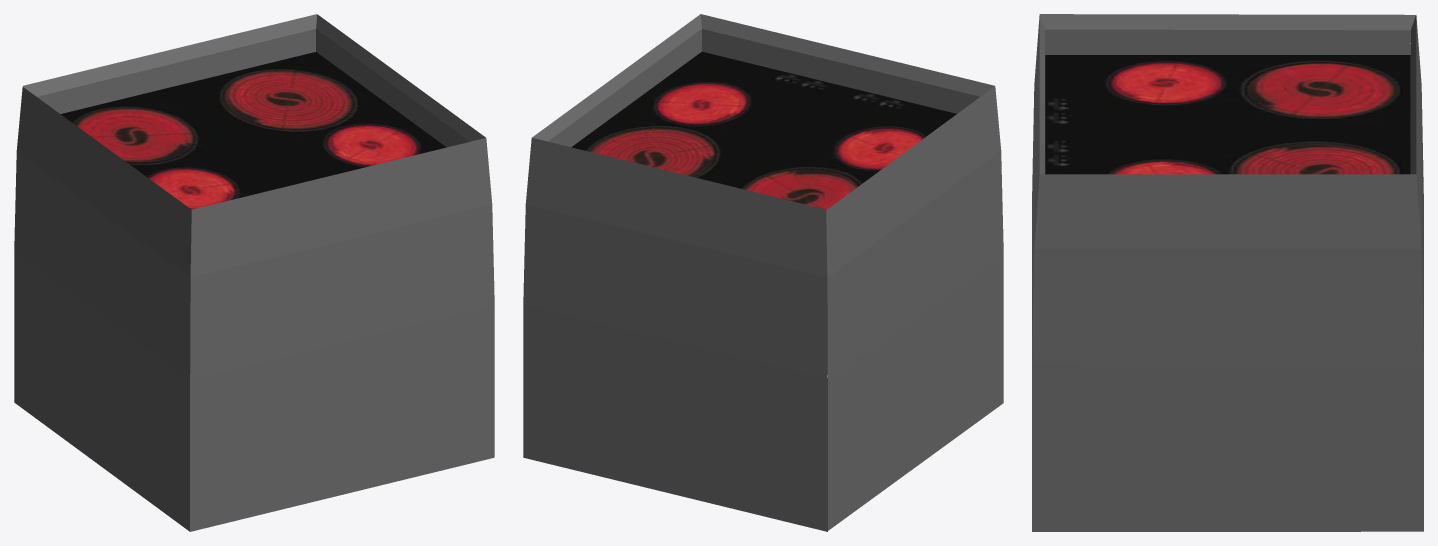
Rendered from sh-contrib-ceramic-hob.glb.
The picture shows the model from 3 angles, left to right: view 1: azimuth 30°, elevation 25°; view 2: azimuth 150°, elevation 25°; view 3: azimuth 270°, elevation 25°; orthographic projection. The views are drawn at different scales.
Parts seen in each view (by area): view 1: Frame_Cylinder_DarkG, Photo_Cube_Material_ceramicHobOn.jpg; view 2: Frame_Cylinder_DarkG, Photo_Cube_Material_ceramicHobOn.jpg; view 3: Frame_Cylinder_DarkG, Photo_Cube_Material_ceramicHobOn.jpg.
Part boxes in pixels (<box>): Frame_Cylinder_DarkG: <box>14,14,494,531</box>; Photo_Cube_Material_ceramicHobOn.jpg: <box>60,52,446,209</box>; Frame_Cylinder_DarkG: <box>523,14,1003,531</box>; Photo_Cube_Material_ceramicHobOn.jpg: <box>571,51,956,209</box>; Frame_Cylinder_DarkG: <box>1032,14,1423,531</box>; Photo_Cube_Material_ceramicHobOn.jpg: <box>1045,55,1410,174</box>.
Bounding box in the file's own units: 1 × 1 × 1.
3 materials, 1 textured.
